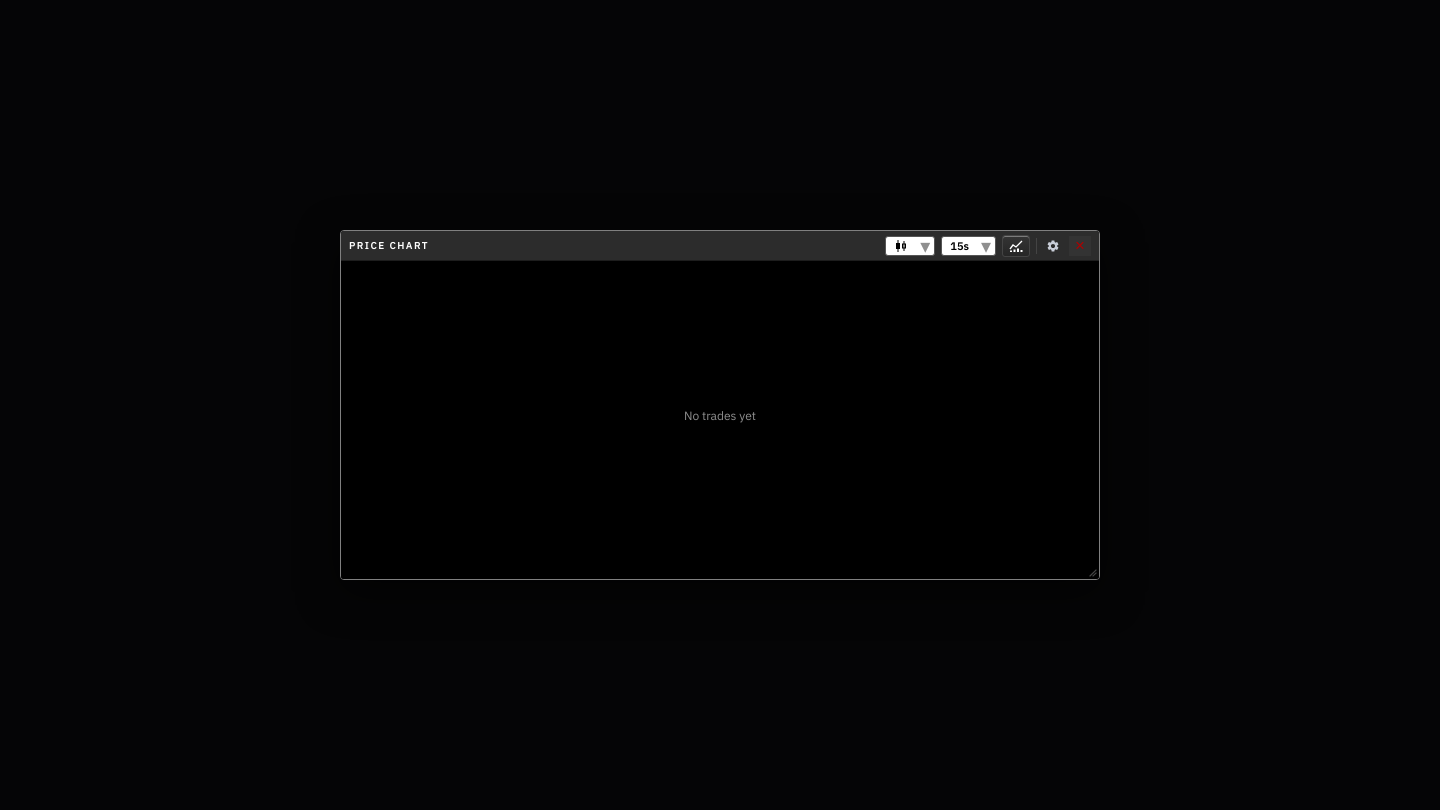
Scenario: the settings view inside the floating window › Escape with a parameter FieldMenu open closes only the menu, then the view, never the window
Click the button with test id "pc-settings-gear".
click(1053, 246)  # box [1043,236,1063,256]
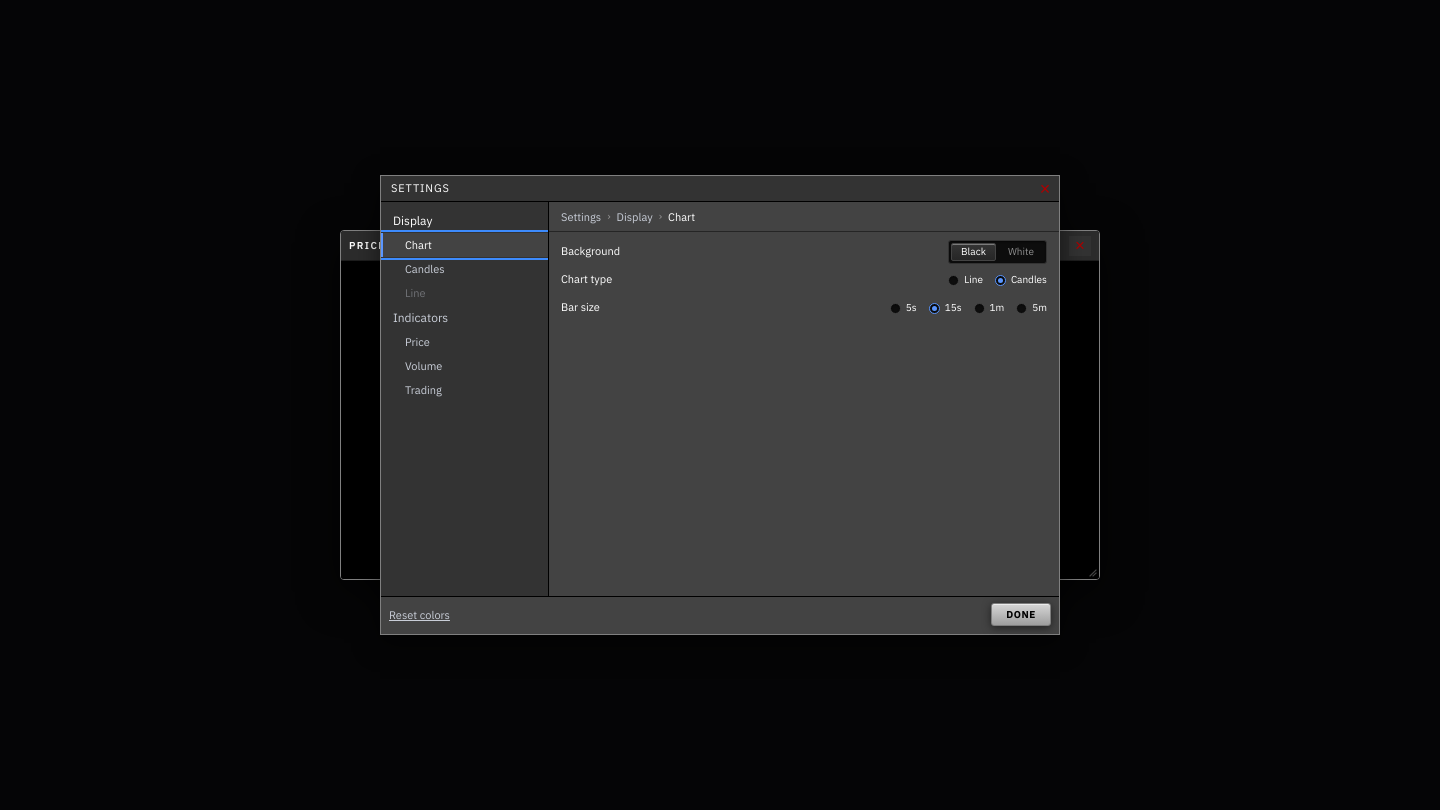
Click the button "Price".
click(464, 342)  # box [381,330,548,354]
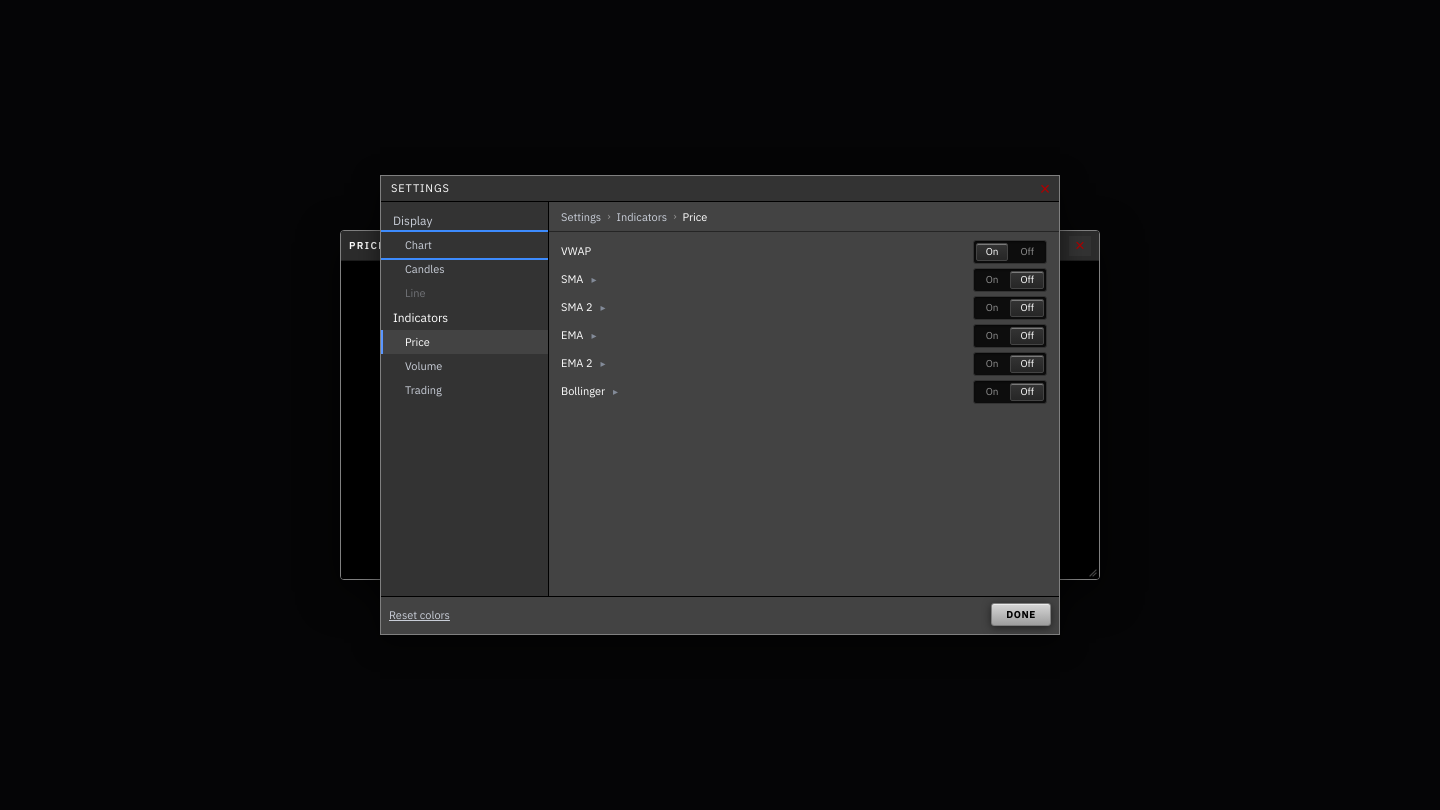
Click the button with test id "pc-ind-sma-params".
click(594, 280)  # box [589,275,598,285]
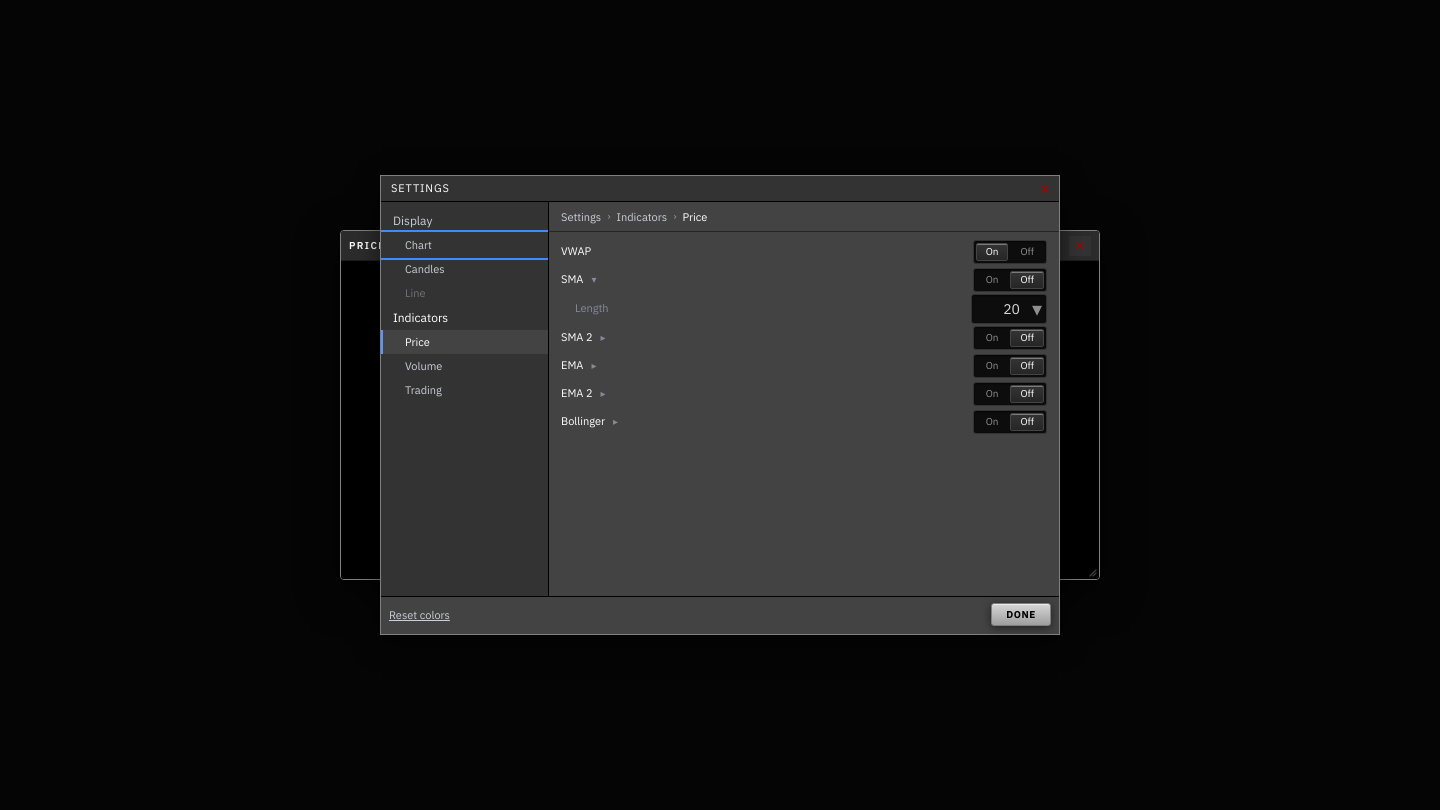
Click the field with test id "pc-param-sma-length-input".
click(1009, 309)  # box [971,294,1047,324]
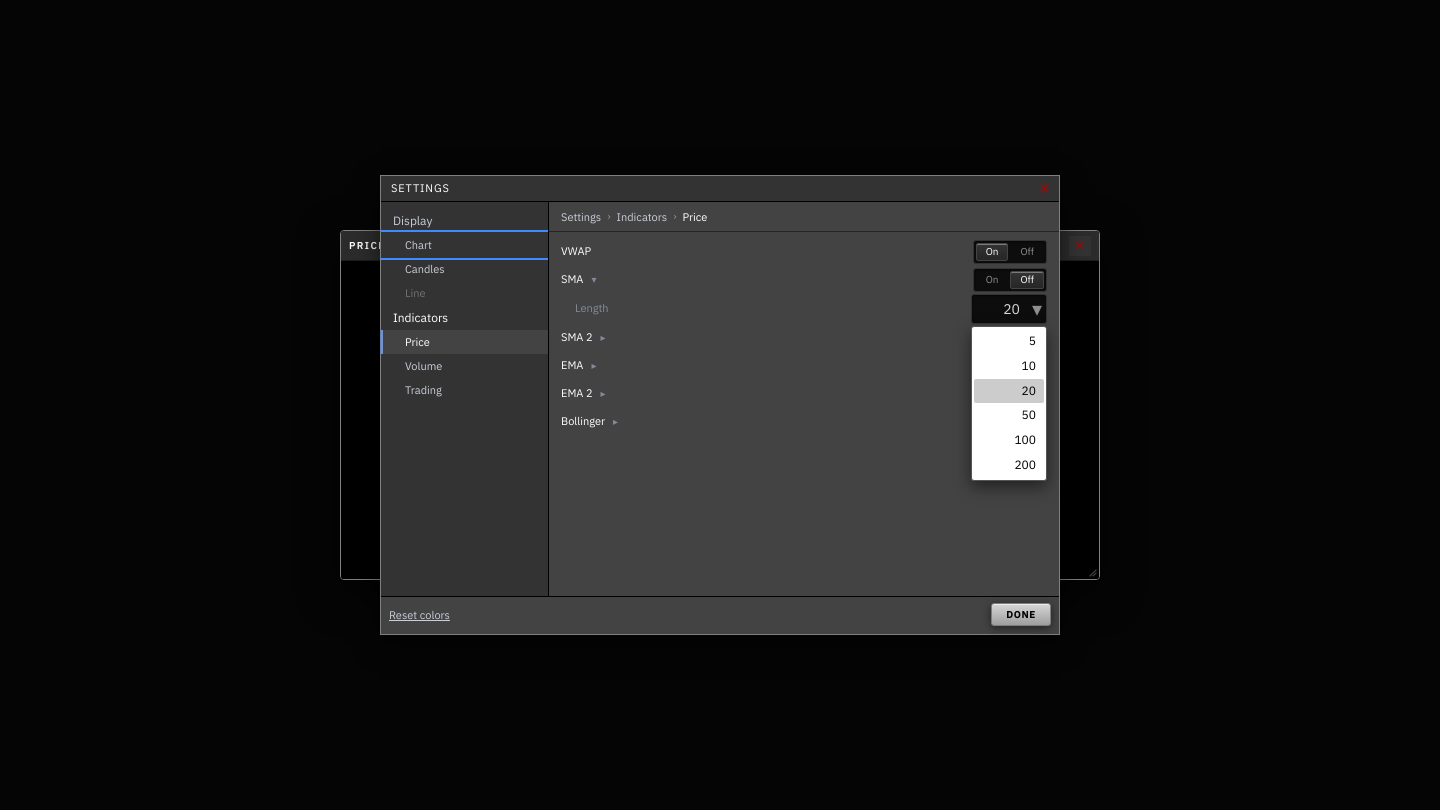
Expected: the list is shown, [971,326,1047,481]
Press Escape in the field with test id "pc-param-sma-length-input", box [971,294,1047,324]
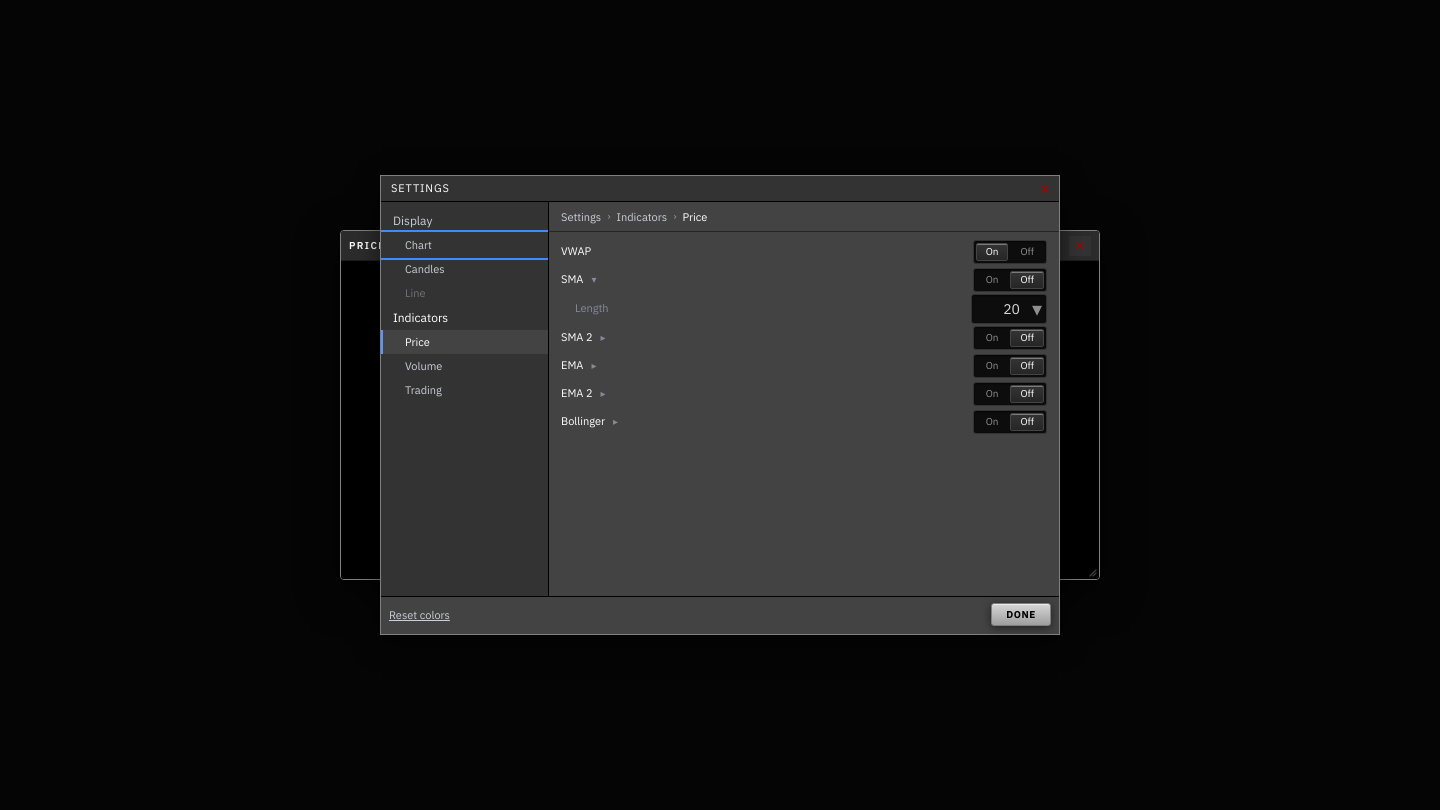
Expected: the dialog with test id "pc-settings" is shown, [380,175,1060,635]
Expected: the list is gone
Press Escape in the field with test id "pc-param-sma-length-input", box [971,294,1047,324]
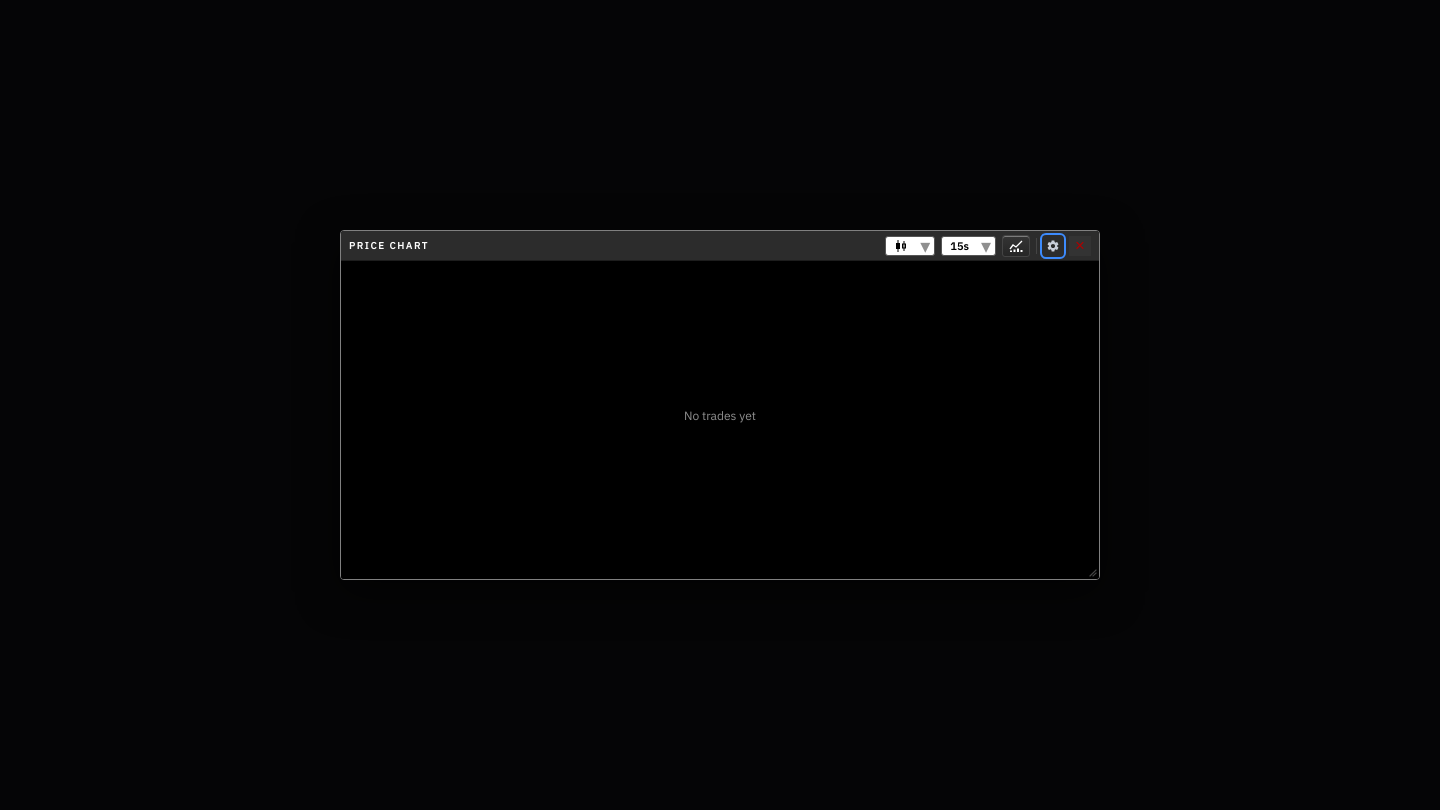
Expected: the dialog with test id "pc-settings" is gone
